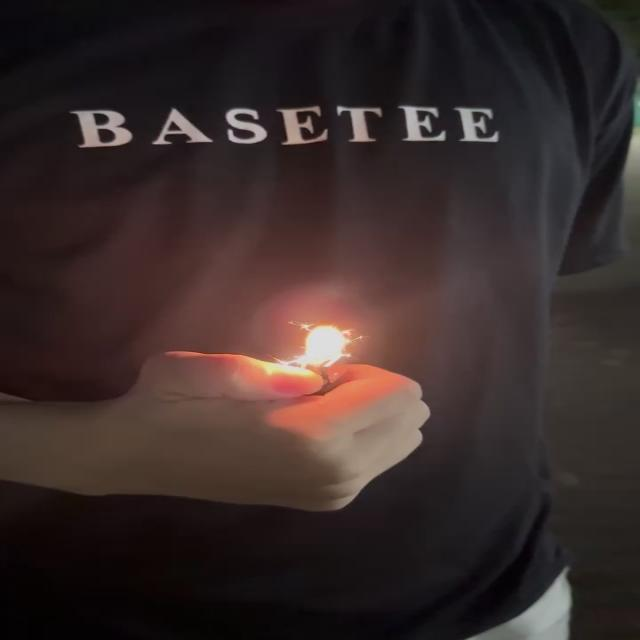Fire: (285, 319, 367, 371)
